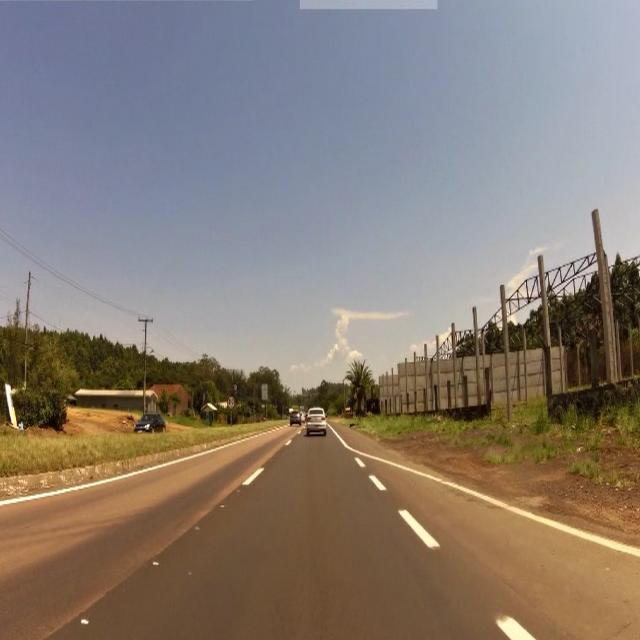R-19: (227, 396, 236, 410)
